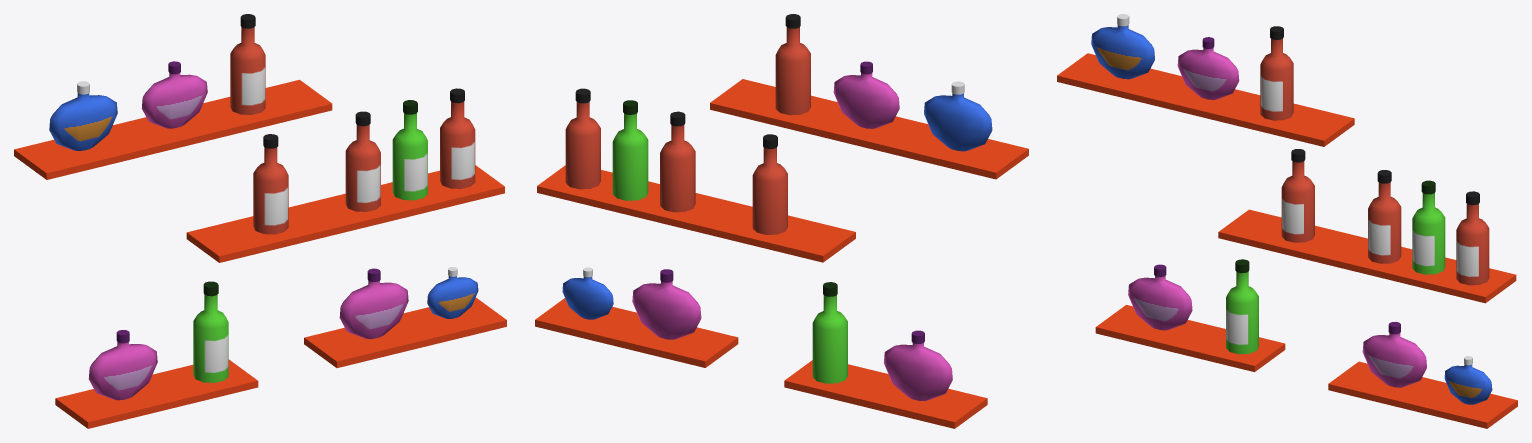
File: ke dung ruou 1.FBX
The picture shows the model from 3 angles, left to right: view 1: azimuth 30°, elevation 25°; view 2: azimuth 150°, elevation 25°; view 3: azimuth 330°, elevation 25°; orthographic projection. The views are drawn at different scales.
Visible parts, largest first — view 1: Box1915, Cylinder264, Cylinder263, Cylinder259, Cylinder262, Cylinder260, Cylinder261, Cylinder265, Cylinder257, Cylinder255, Cylinder256, Cylinder258; view 2: Box1915, Cylinder264, Cylinder263, Cylinder259, Cylinder260, Cylinder256, Cylinder262, Cylinder261, Cylinder255, Cylinder257, Cylinder265, Cylinder258; view 3: Box1915, Cylinder263, Cylinder264, Cylinder259, Cylinder260, Cylinder265, Cylinder256, Cylinder255, Cylinder257, Cylinder261, Cylinder262, Cylinder258.
Part boxes in pixels (x1,y1,x2,y2): Box1915: [14, 79, 506, 428]; Cylinder264: [339, 268, 408, 338]; Cylinder263: [88, 330, 157, 400]; Cylinder259: [49, 81, 117, 150]; Cylinder262: [193, 281, 228, 382]; Cylinder260: [141, 61, 207, 128]; Cylinder261: [230, 14, 265, 114]; Cylinder265: [253, 134, 288, 234]; Cylinder257: [345, 111, 380, 211]; Cylinder255: [440, 88, 475, 188]; Cylinder256: [392, 100, 427, 200]; Cylinder258: [427, 267, 478, 318]; Box1915: [535, 79, 1028, 428]; Cylinder264: [632, 269, 701, 339]; Cylinder263: [884, 330, 952, 400]; Cylinder259: [924, 81, 992, 151]; Cylinder260: [833, 61, 899, 128]; Cylinder256: [612, 100, 648, 200]; Cylinder262: [812, 282, 847, 383]; Cylinder261: [775, 14, 810, 115]; Cylinder255: [565, 88, 600, 189]; Cylinder257: [660, 111, 695, 212]; Cylinder265: [752, 134, 787, 234]; Cylinder258: [562, 267, 613, 319]; Box1915: [1057, 53, 1517, 428]; Cylinder263: [1128, 264, 1192, 330]; Cylinder264: [1362, 322, 1426, 387]; Cylinder259: [1091, 14, 1154, 79]; Cylinder260: [1177, 37, 1239, 99]; Cylinder265: [1281, 149, 1314, 242]; Cylinder256: [1412, 180, 1445, 274]; Cylinder255: [1456, 191, 1489, 285]; Cylinder257: [1368, 170, 1401, 263]; Cylinder261: [1260, 26, 1293, 120]; Cylinder262: [1226, 259, 1258, 354]; Cylinder258: [1444, 356, 1492, 404].
Size of the model in its own units: 5.92 by 4.38 by 0.7299.
